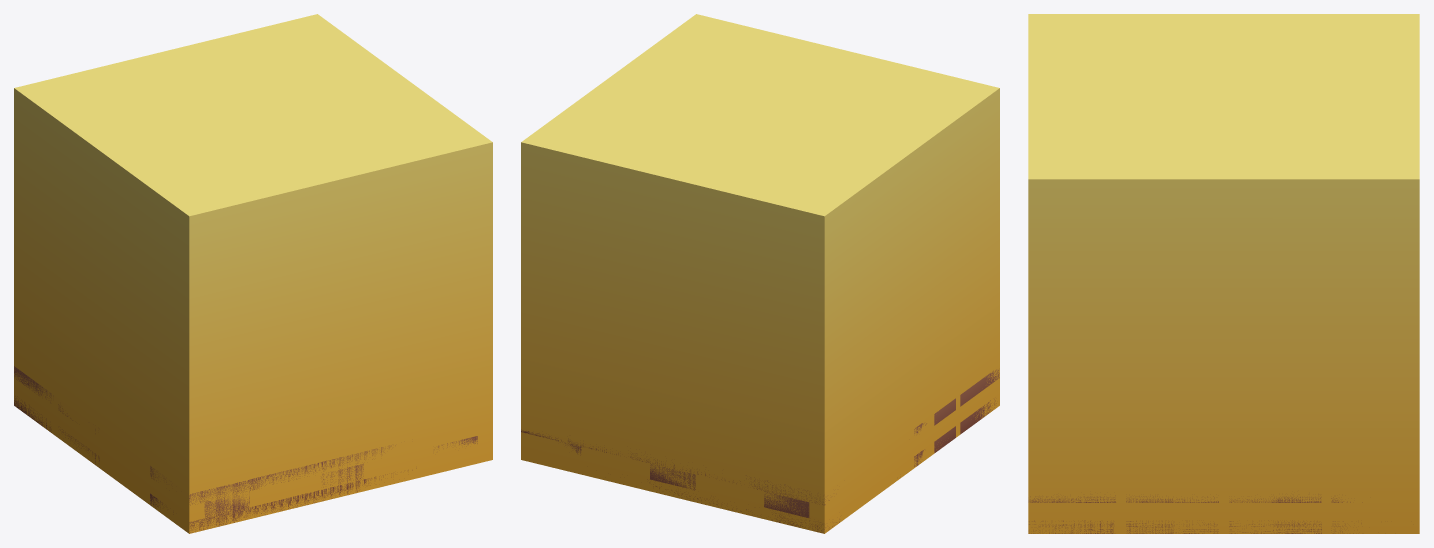
The model's file is prototype.glb.
The picture shows the model from 3 angles, left to right: view 1: azimuth 30°, elevation 25°; view 2: azimuth 150°, elevation 25°; view 3: azimuth 270°, elevation 25°; orthographic projection. The views are drawn at different scales.
Parts seen in each view (by area): view 1: Primitive_Cube, Primitive_Slope_Half, Primitive_Slope, Primitive_Floor, Pallet_Large, Primitive_Doorway, Primitive_Slope_OuterCorner, Primitive_Wall_OpenCorner; view 2: Primitive_Cube, Primitive_Floor, Primitive_Slope_Half, Primitive_Doorway, Primitive_Wall, Pallet_Large, Primitive_Slope_OuterCorner, Primitive_Slope, Primitive_Wall_OpenCorner; view 3: Primitive_Cube, Primitive_Doorway, Primitive_Floor, Primitive_Slope_InnerCorner, Primitive_Beam, Primitive_Wall, Primitive_Slope_Half, Primitive_Wall_OpenCorner, Primitive_Window, Primitive_Wall_Half, Pallet_Large, Primitive_Pillar.
Part boxes in pixels (box(x1,y1,x2,y2)): Primitive_Cube: box(14, 14, 492, 533); Primitive_Slope_Half: box(59, 53, 425, 532); Primitive_Slope: box(14, 88, 382, 533); Primitive_Floor: box(14, 327, 492, 533); Pallet_Large: box(14, 366, 477, 532); Primitive_Doorway: box(84, 62, 420, 314); Primitive_Slope_OuterCorner: box(14, 89, 76, 438); Primitive_Wall_OpenCorner: box(104, 97, 409, 398); Primitive_Cube: box(521, 14, 999, 533); Primitive_Floor: box(521, 327, 999, 533); Primitive_Slope_Half: box(535, 51, 960, 420); Primitive_Doorway: box(611, 62, 934, 462); Primitive_Wall: box(610, 63, 934, 460); Pallet_Large: box(521, 369, 999, 533); Primitive_Slope_OuterCorner: box(824, 217, 967, 467); Primitive_Slope: box(559, 244, 797, 433); Primitive_Wall_OpenCorner: box(633, 64, 934, 460); Primitive_Cube: box(1028, 14, 1419, 533); Primitive_Doorway: box(1175, 14, 1272, 533); Primitive_Floor: box(1028, 445, 1419, 533); Primitive_Slope_InnerCorner: box(1041, 197, 1419, 533); Primitive_Beam: box(1175, 445, 1272, 533); Primitive_Wall: box(1175, 14, 1272, 532); Primitive_Slope_Half: box(1028, 14, 1419, 533); Primitive_Wall_OpenCorner: box(1175, 100, 1272, 533); Primitive_Window: box(1176, 180, 1272, 527); Primitive_Wall_Half: box(1175, 57, 1272, 137); Pallet_Large: box(1028, 494, 1362, 533); Primitive_Pillar: box(1176, 76, 1272, 116).
Bounding box in the file's own units: 4 × 4.5 × 4.
1 material, 1 textured.
